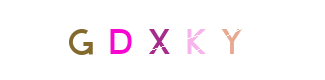D: (80, 0, 160, 80)
G: (40, 0, 120, 80)
K: (123, 0, 203, 80)
X: (119, 0, 199, 80)
Y: (143, 0, 223, 80)
